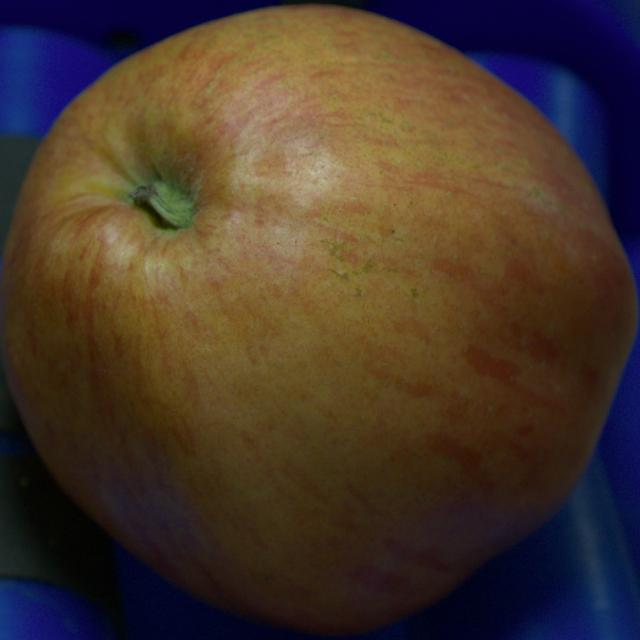apple: (0, 6, 638, 634)
